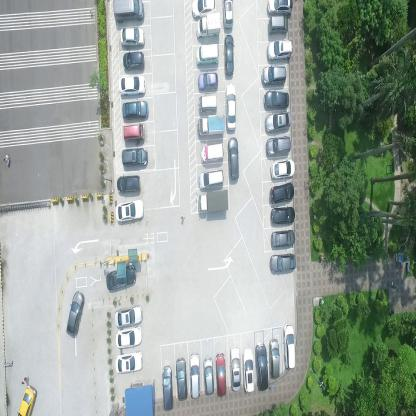car: (105, 264, 137, 291), (66, 290, 84, 336), (254, 342, 269, 392), (16, 382, 38, 415), (114, 349, 143, 374), (196, 190, 228, 212), (115, 199, 144, 223), (114, 0, 144, 23), (196, 13, 221, 40), (114, 304, 143, 326), (282, 322, 295, 370), (115, 324, 142, 347), (196, 115, 224, 137), (268, 252, 296, 274), (198, 169, 224, 192), (264, 112, 291, 134), (118, 74, 146, 95), (270, 182, 294, 206), (266, 38, 292, 60), (265, 136, 291, 158), (175, 357, 188, 401), (243, 347, 255, 394), (122, 100, 149, 120), (195, 44, 219, 66), (226, 136, 238, 180), (270, 159, 294, 181), (270, 228, 294, 250), (214, 352, 226, 396), (121, 27, 146, 48), (262, 66, 287, 87), (263, 90, 289, 110), (189, 351, 200, 398), (162, 364, 173, 411), (121, 147, 148, 166), (199, 144, 223, 165), (226, 82, 236, 132), (269, 336, 280, 380), (230, 346, 241, 390), (116, 174, 141, 193), (270, 207, 295, 226), (191, 0, 217, 18), (266, 15, 288, 35), (203, 356, 214, 396), (122, 123, 145, 142), (224, 34, 234, 76), (267, 0, 295, 15), (123, 51, 145, 70), (198, 72, 219, 90), (222, 0, 234, 29), (198, 95, 217, 112)
